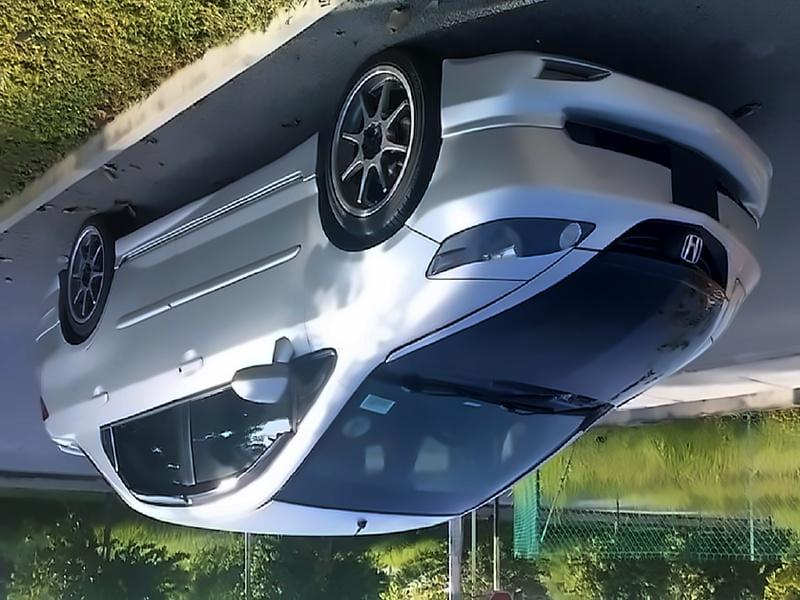Car hood: (391, 243, 734, 419)
Fender - -F-L-: (303, 131, 447, 384)
Fender - -R-L-: (46, 236, 116, 424)
Front bumper: (434, 49, 776, 257)
Headlight - -L-: (421, 204, 599, 295)
Passenger-s door - -F-L-: (185, 184, 329, 511)
Passenger-s door - -R-L-: (81, 225, 189, 527)
Rear bumper: (29, 245, 68, 341)
Rear light - -L-: (24, 381, 56, 430)
Side bumper - -L-: (113, 123, 331, 276)
Side mirror - -L-: (229, 326, 308, 413)
